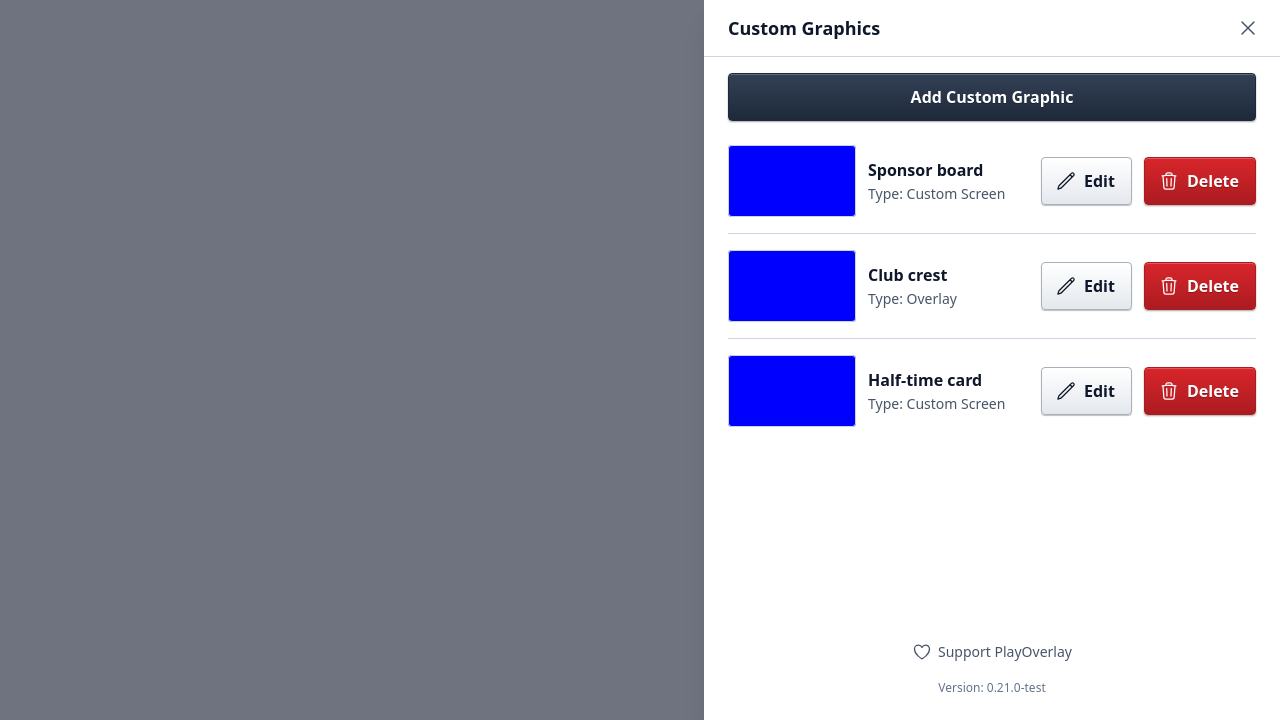
CustomScreensMenu edit › keeps the edit dialog and draft with an error when saving fails
Click the button "Edit" in the row of "Half-time card" at (1086, 391), box [1041,367,1132,415]
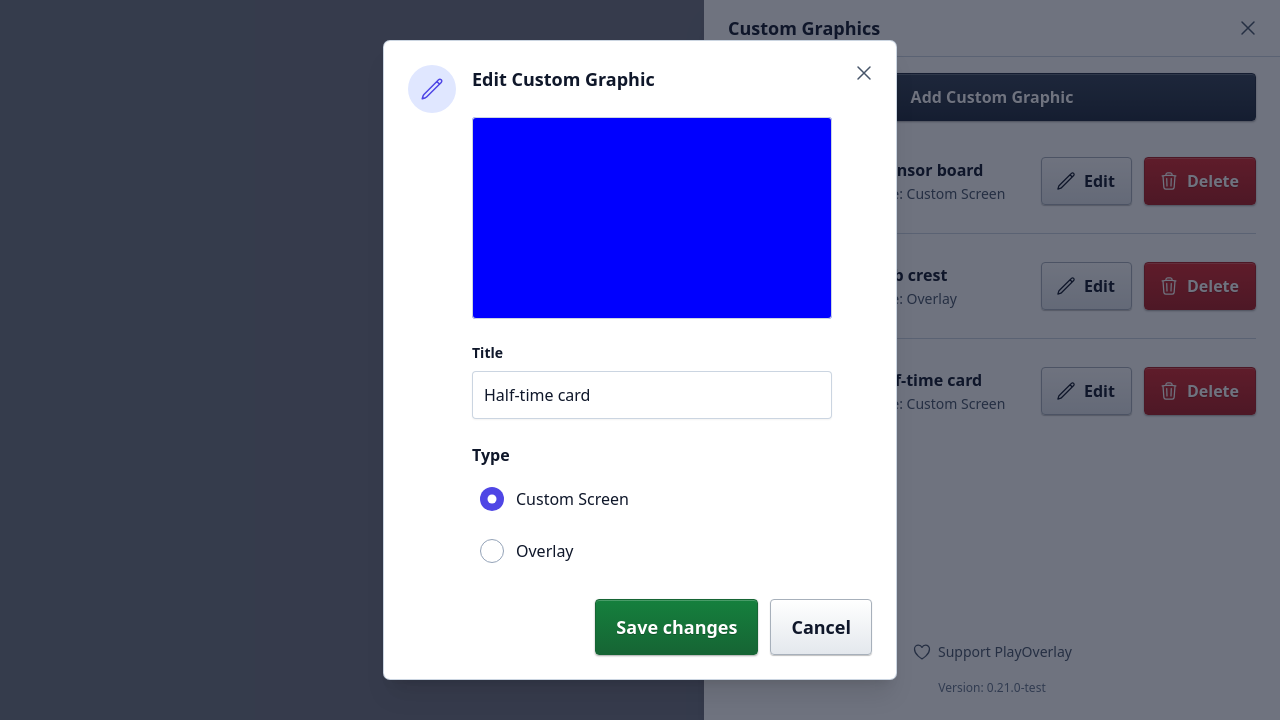
Replace the text in the field labelled "Title" with "Half-time (new)" at (652, 395), box [472,371,832,419]
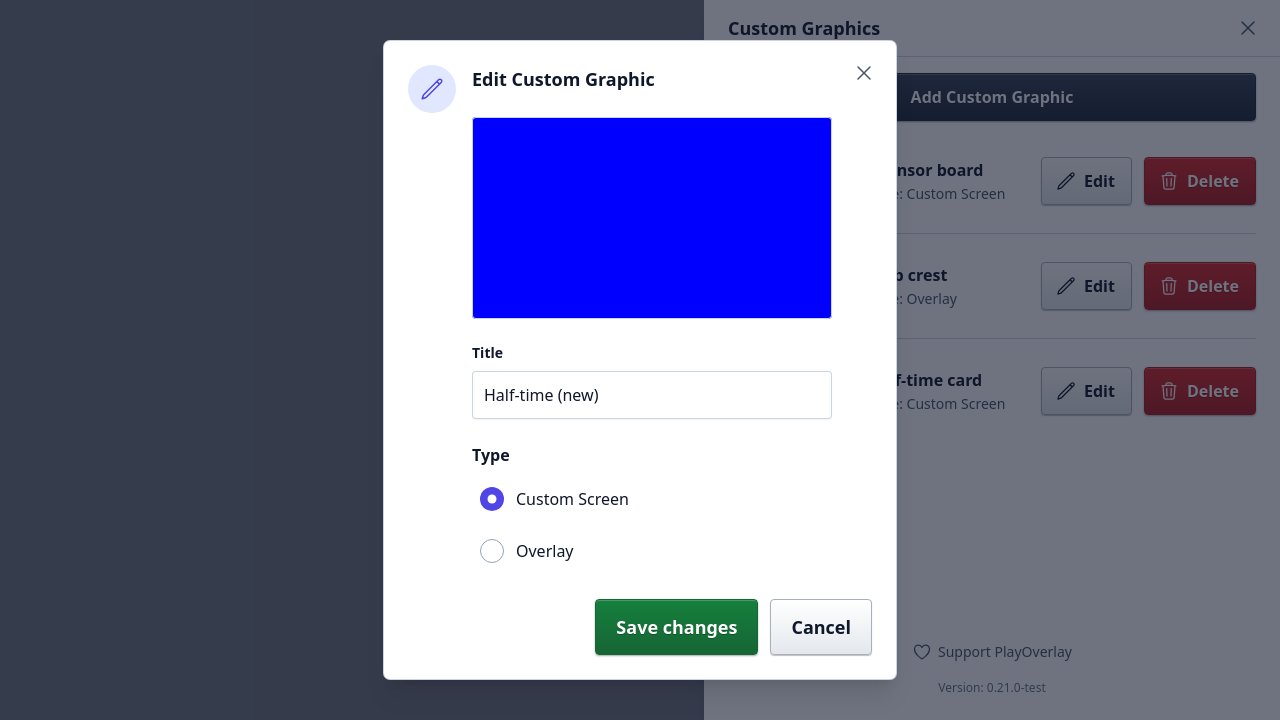
Click the button "Save changes" at (677, 627), box [595,599,758,655]
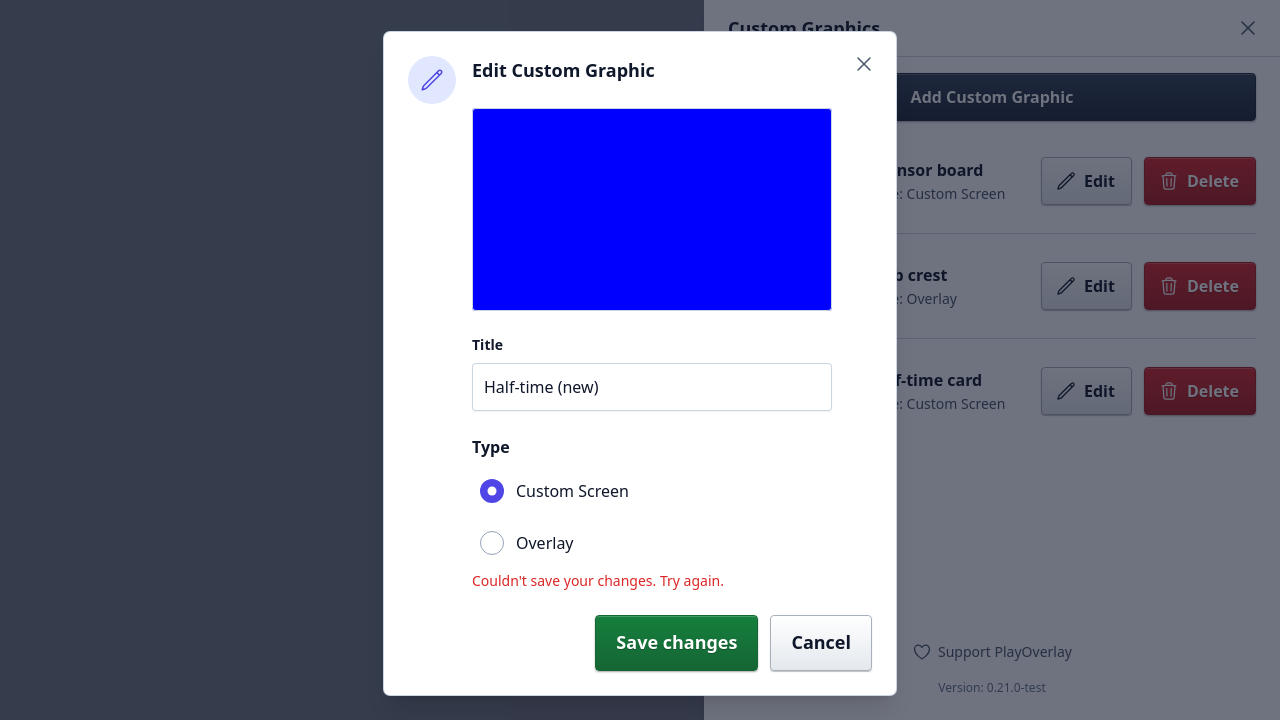
expect the text "Couldn't save your changes. Try again." is shown: met, box [472,570,724,590]
// Retry succeeds and closes the dialog.
Click the button "Save changes" at (677, 642), box [595,614,758,670]
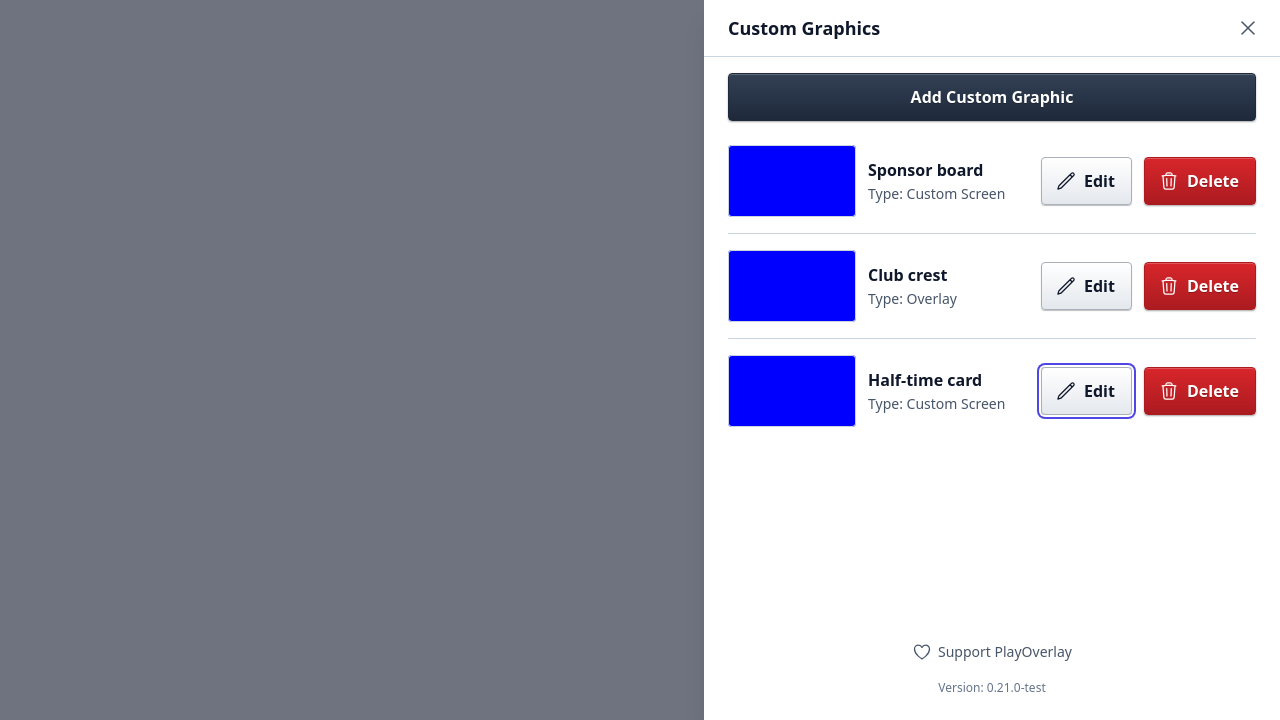
expect the heading "Edit Custom Graphic" is gone: met
